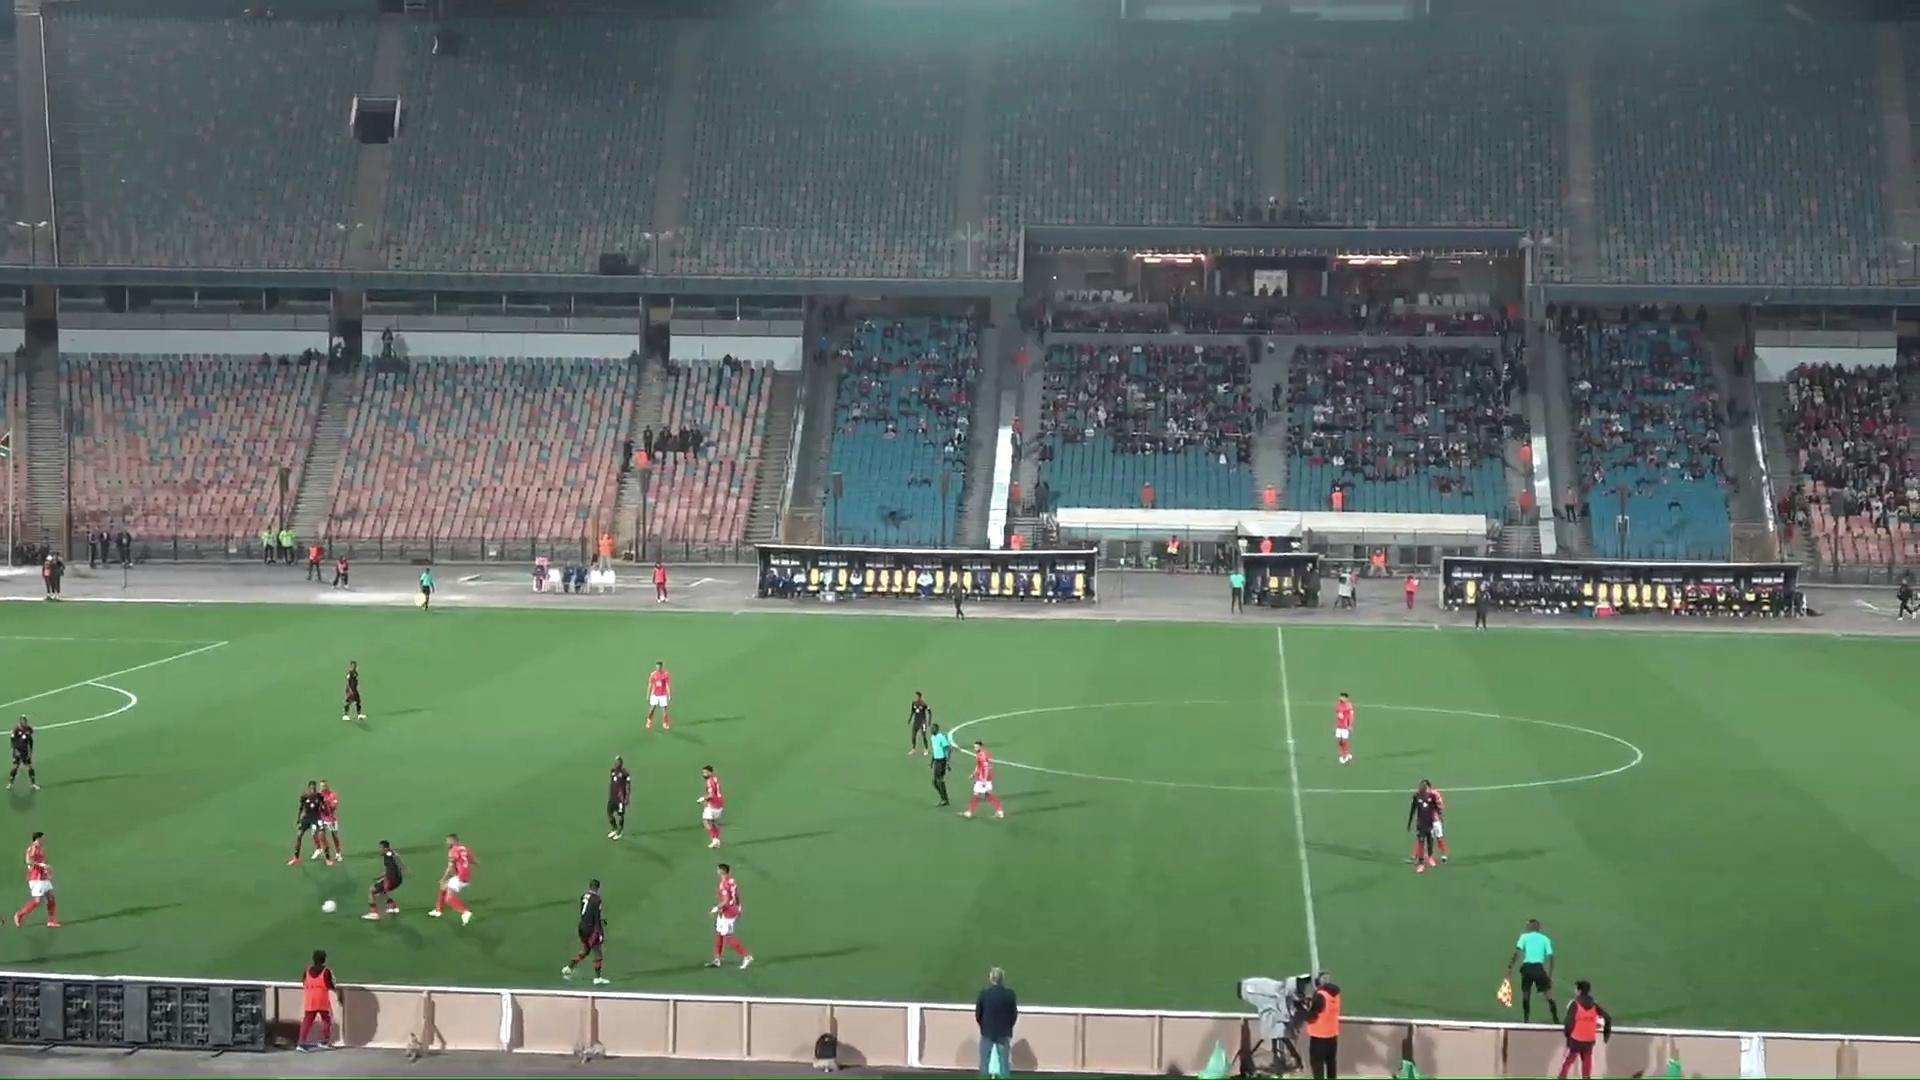Ball: (320, 898, 338, 913)
Refree: (1509, 918, 1559, 1022), (928, 724, 953, 804), (1228, 555, 1249, 615), (415, 566, 435, 611)
Team1: (705, 862, 753, 968), (13, 833, 59, 927), (429, 833, 476, 923), (963, 741, 1004, 818), (698, 765, 727, 849), (314, 781, 343, 864), (1423, 782, 1448, 866), (645, 663, 673, 729), (1333, 694, 1356, 764)
Team2: (560, 880, 609, 984), (287, 781, 334, 865), (363, 840, 406, 920), (1404, 781, 1443, 872), (604, 756, 633, 839), (9, 715, 40, 789), (906, 692, 940, 753), (342, 661, 365, 719)
